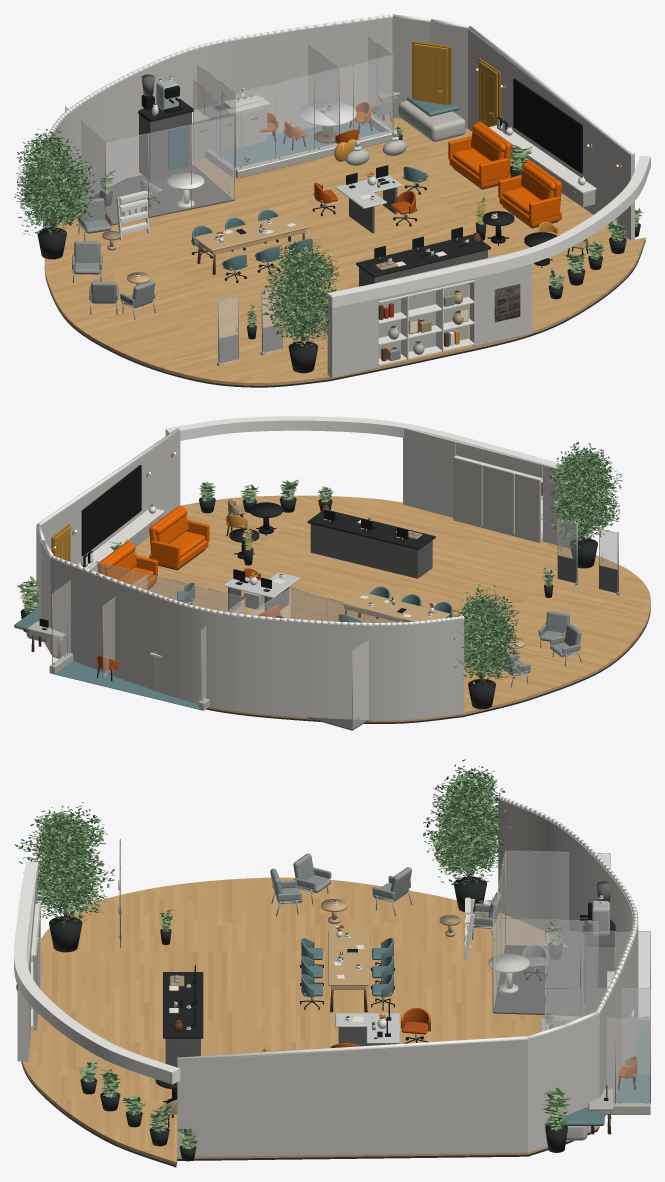
File: office.glb
3 views of the same model, one above another, from view 1: azimuth 30°, elevation 25°; view 2: azimuth 150°, elevation 25°; view 3: azimuth 270°, elevation 25° (orthographic). The views are drawn at different scales.
Visible parts, largest first — view 1: FLOOR__Natural oak planks, WALL__wall, GLASS__Clear architectural glass, STATIC__leaf1_leaf2_leaf3_leaf4, WALL__cap, STATIC__cabinet, STATIC__matteblack, STATIC__white, STATIC__black, STATIC__orange, STATIC__greydesk, STATIC__grey (+18 smaller); view 2: WALL__wall, FLOOR__Natural oak planks, STATIC__leaf1_leaf2_leaf3_leaf4, GLASS__Clear architectural glass, WALL__cap, WALL__cabinet, STATIC__matteblack, STATIC__greydesk, STATIC__orange, STATIC__black, STATIC__white, STATIC__wood (+9 smaller); view 3: FLOOR__Natural oak planks, WALL__wall, GLASS__Clear architectural glass, STATIC__leaf1_leaf2_leaf3_leaf4, WALL__cap, STATIC__matteblack, STATIC__darkcarpet, STATIC__grey, STATIC__greydesk, STATIC__teal, STATIC__wood, STATIC__white (+8 smaller).
Part boxes in pixels (<box>): FLOOR__Natural oak planks: <box>44,118,645,385</box>; WALL__wall: <box>43,17,634,378</box>; GLASS__Clear architectural glass: <box>65,37,392,363</box>; STATIC__leaf1_leaf2_leaf3_leaf4: <box>14,123,643,348</box>; WALL__cap: <box>46,14,650,307</box>; STATIC__cabinet: <box>192,92,595,207</box>; STATIC__matteblack: <box>37,99,645,387</box>; STATIC__white: <box>116,77,596,365</box>; STATIC__black: <box>141,78,588,348</box>; STATIC__orange: <box>448,121,561,226</box>; STATIC__greydesk: <box>139,74,487,363</box>; STATIC__grey: <box>72,102,455,360</box>; WALL__wall: <box>36,428,589,720</box>; FLOOR__Natural oak planks: <box>52,495,650,722</box>; STATIC__leaf1_leaf2_leaf3_leaf4: <box>18,442,622,686</box>; GLASS__Clear architectural glass: <box>53,519,617,728</box>; WALL__cap: <box>36,416,570,625</box>; WALL__cabinet: <box>453,457,541,542</box>; STATIC__matteblack: <box>20,497,650,723</box>; STATIC__greydesk: <box>228,524,617,617</box>; STATIC__orange: <box>97,506,209,589</box>; STATIC__black: <box>39,465,408,681</box>; STATIC__white: <box>77,455,542,658</box>; STATIC__wood: <box>341,591,525,648</box>; FLOOR__Natural oak planks: <box>21,877,597,1165</box>; WALL__wall: <box>17,798,638,1156</box>; GLASS__Clear architectural glass: <box>493,851,650,1103</box>; STATIC__leaf1_leaf2_leaf3_leaf4: <box>14,759,571,1149</box>; WALL__cap: <box>14,796,637,1084</box>; STATIC__matteblack: <box>21,876,615,1167</box>; STATIC__darkcarpet: <box>493,945,591,1015</box>; STATIC__grey: <box>173,853,548,982</box>; STATIC__greydesk: <box>120,881,614,1067</box>; STATIC__teal: <box>301,938,604,1125</box>; STATIC__wood: <box>321,899,369,989</box>; STATIC__white: <box>31,895,633,1029</box>.
Size of the model in its own units: 17.41 by 4.17 by 16.33.
38 materials, 2 textured.
